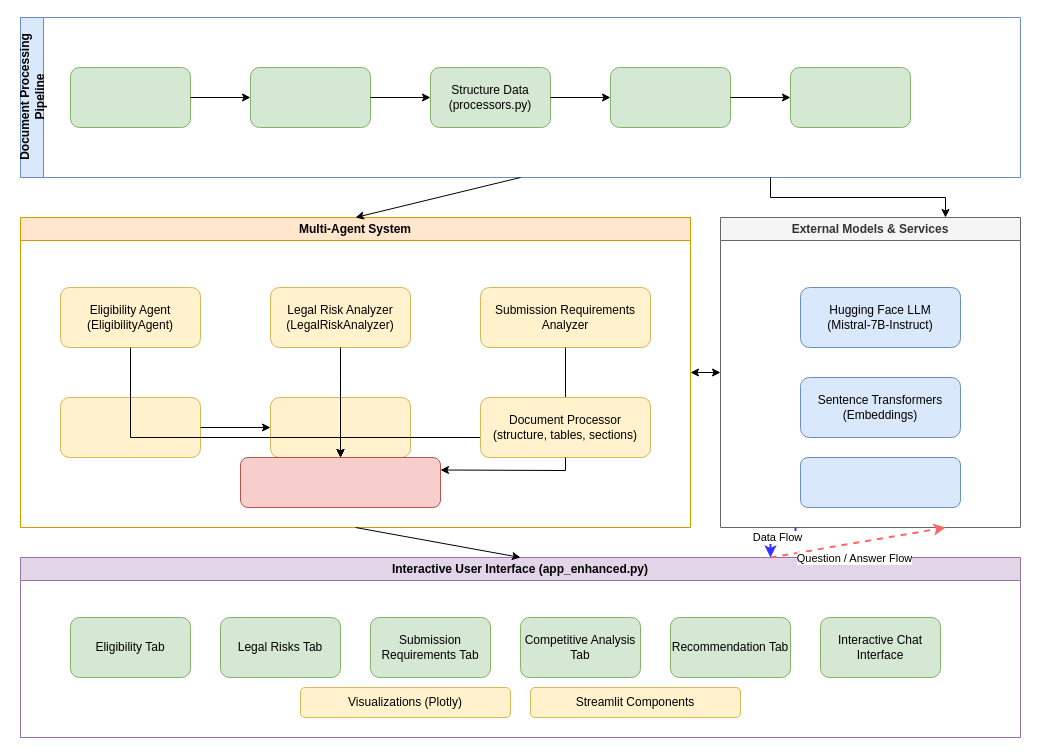
Some shapes in this 1038 by 755 pixel diagram are drawn without their labels. Here are the shapes that lost their labels. From the top down, the centre of each, then its label:
[130,97]: Upload PDF/DOCX Documents
[310,97]: Extract Text (extractors.py)
[670,97]: Create Vector Embeddings
[850,97]: Store in FAISS Vector Database
[130,427]: Competitive Analyzer (CompetitiveAnalyzer)
[340,427]: Compliance Checker (ComplianceChecker)
[340,482]: RFP Orchestrator (Coordinates all agents)
[880,482]: FAISS Vector Database
